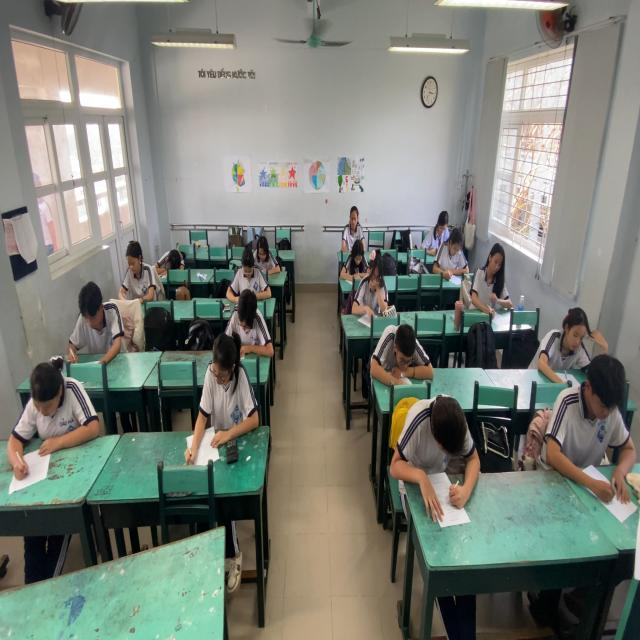not_cheating: (564, 335, 626, 493), (398, 376, 454, 503), (20, 354, 86, 448), (534, 296, 594, 378), (65, 286, 127, 362), (208, 340, 248, 438), (371, 314, 422, 388), (117, 235, 156, 319), (348, 246, 391, 322), (224, 288, 269, 352), (226, 243, 268, 307), (480, 238, 506, 323), (344, 198, 377, 252), (249, 224, 282, 274), (441, 228, 467, 281), (430, 198, 460, 243), (160, 229, 185, 278), (343, 235, 369, 278)
